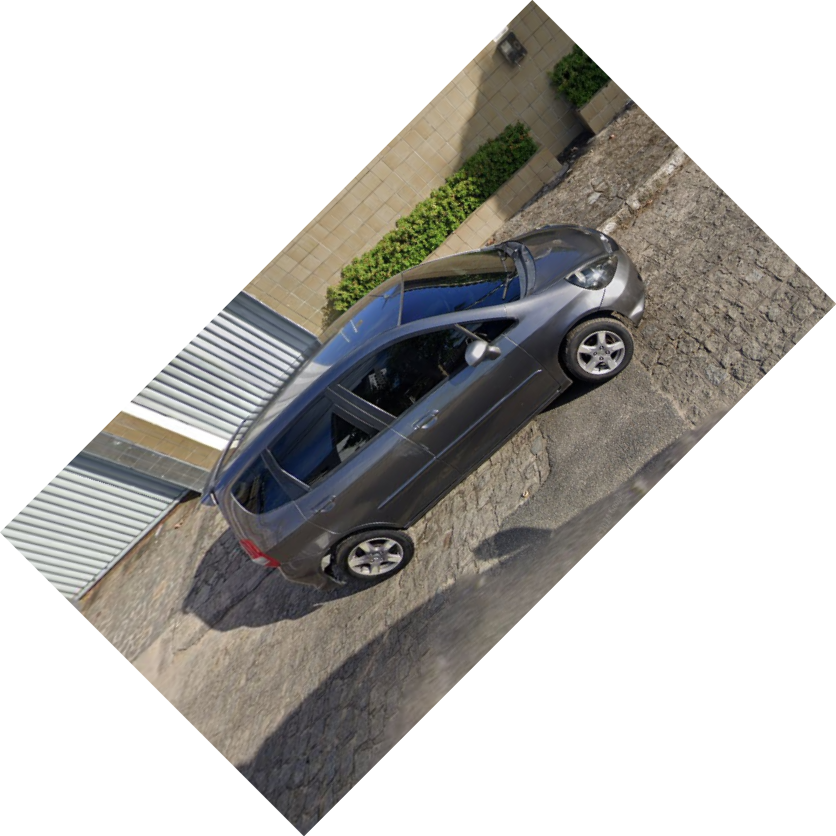car: (196, 219, 652, 601)
